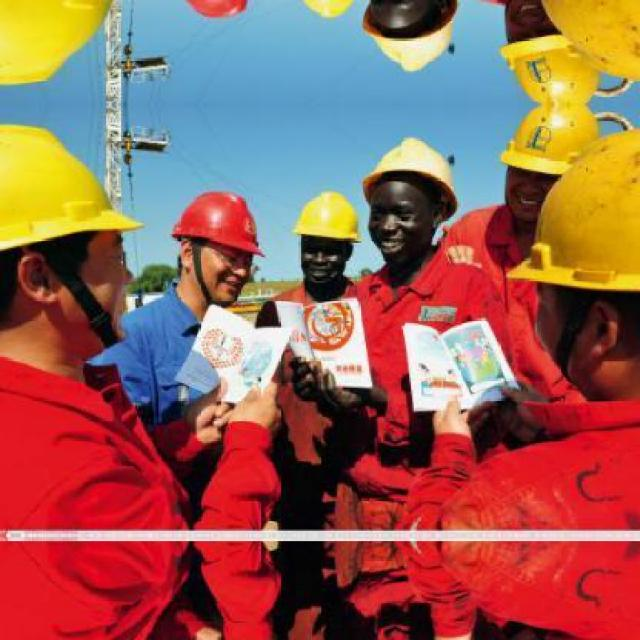hat: (491, 126, 640, 304), (0, 117, 151, 274), (501, 100, 617, 191), (353, 137, 473, 218), (166, 180, 266, 273), (292, 182, 365, 251)
